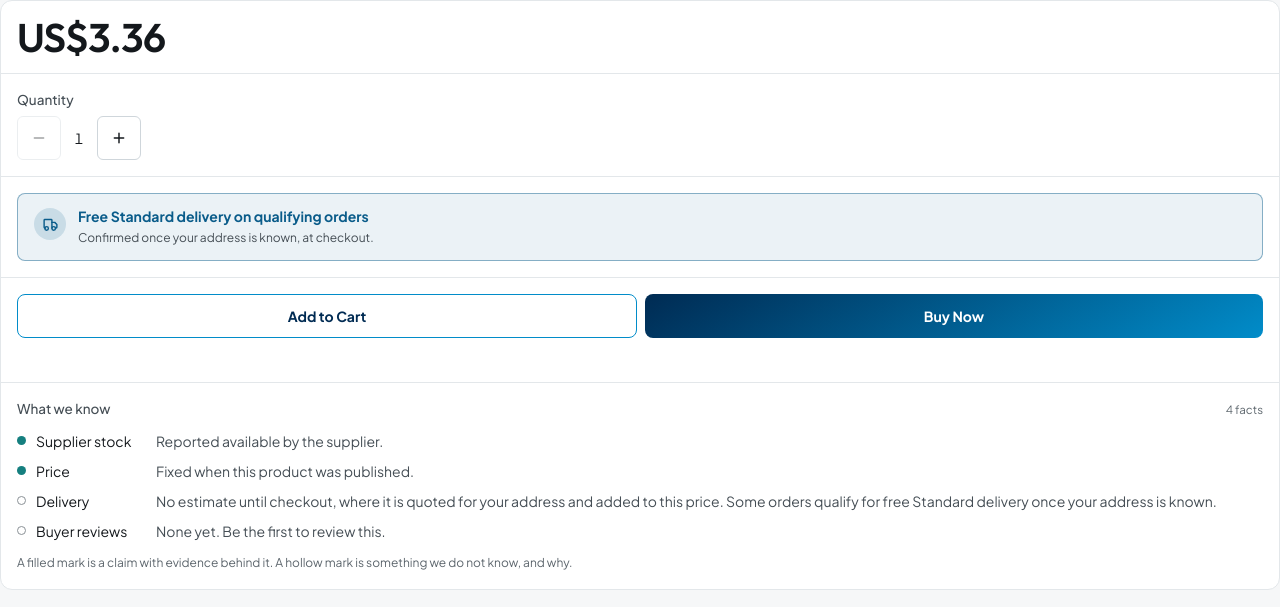
ProductQuantityStepper › starts at one and counts up and down
Expected: the button named "Decrease quantity" is disabled, [17,116,61,160]
Click the button named "Increase quantity".
click(119, 138)  # box [97,116,141,160]
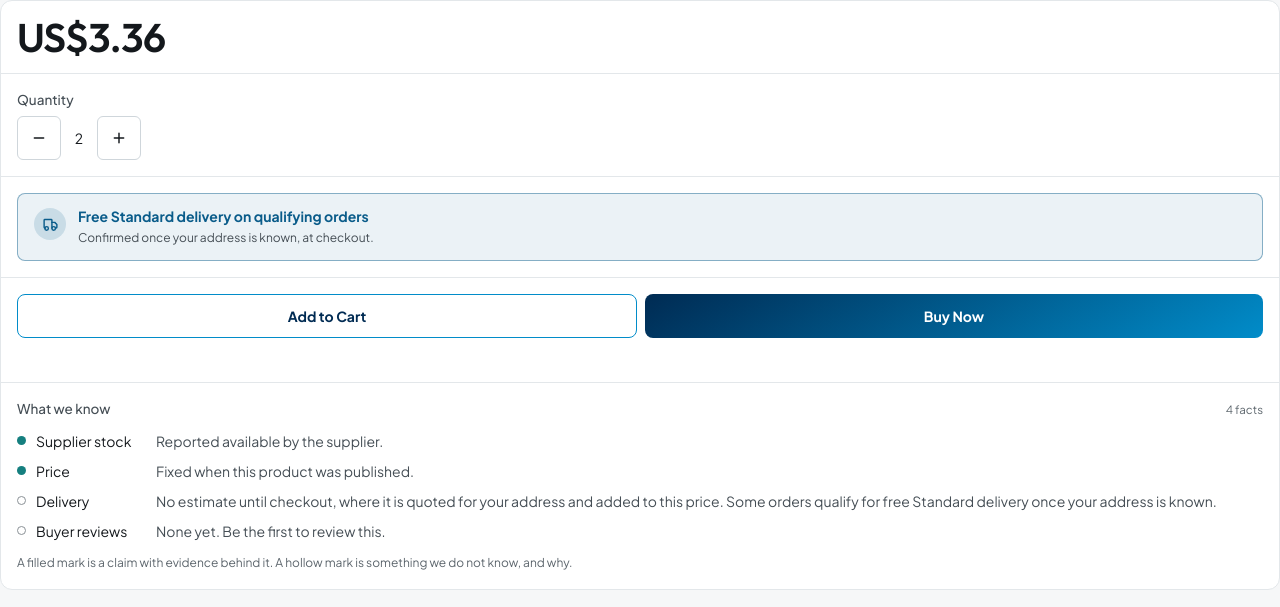
Click the button named "Increase quantity".
click(119, 138)  # box [97,116,141,160]
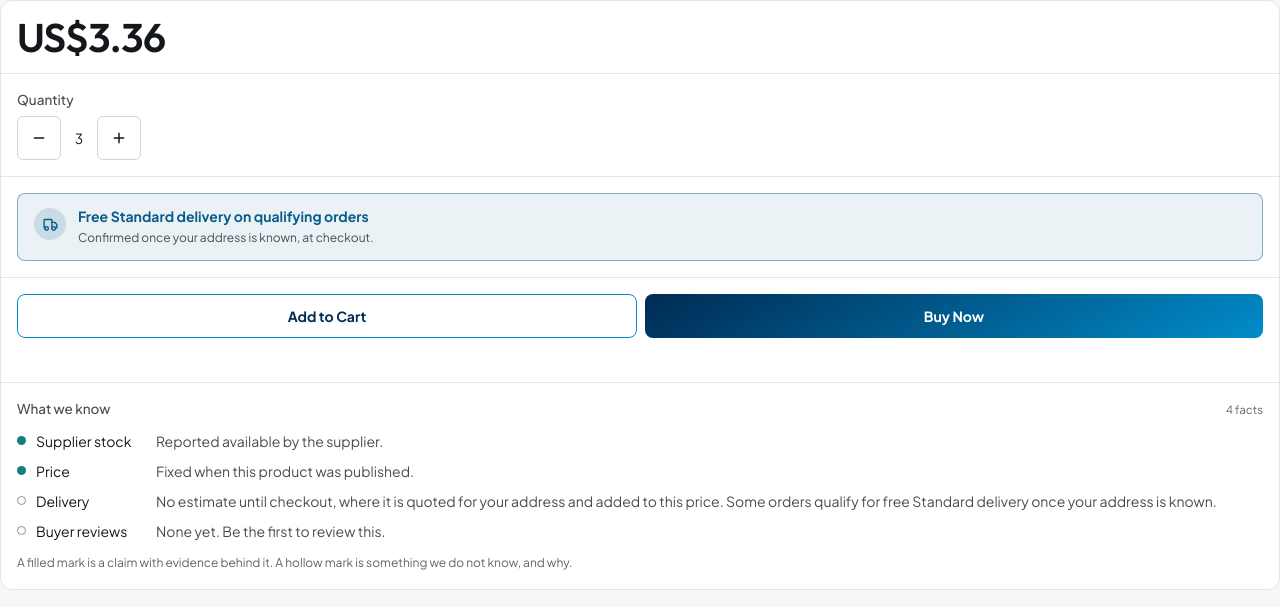
Now the text "3" is shown, box [75,129,83,147]
Click the button named "Decrease quantity".
click(39, 138)  # box [17,116,61,160]
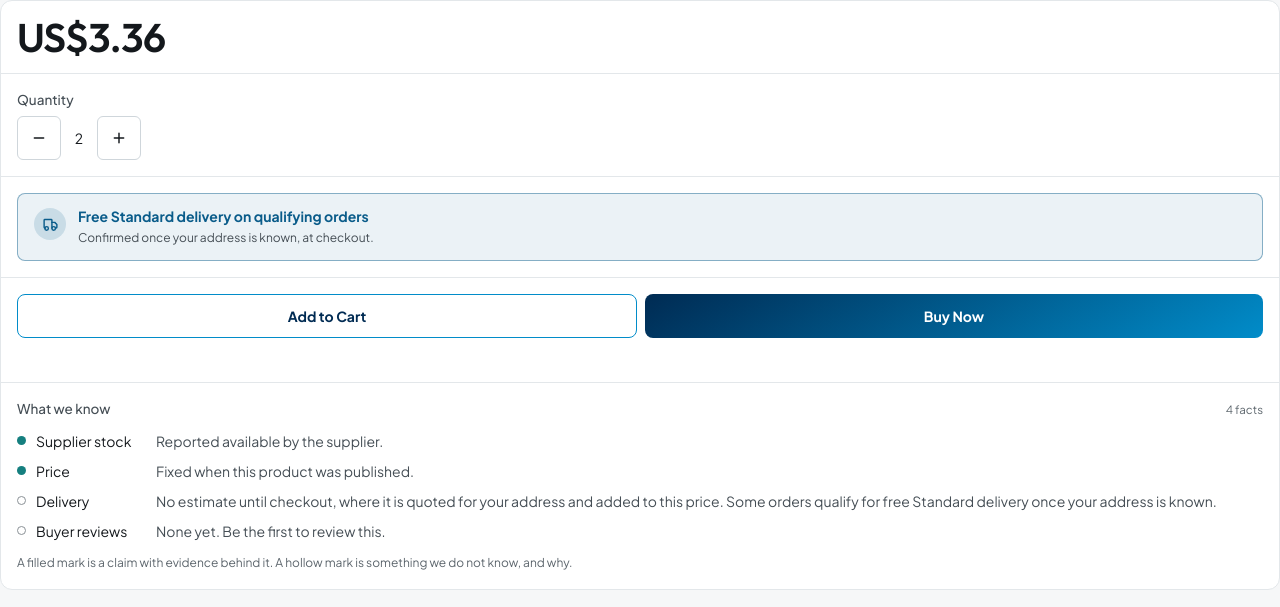
Now the text "2" is shown, box [75,129,83,147]
